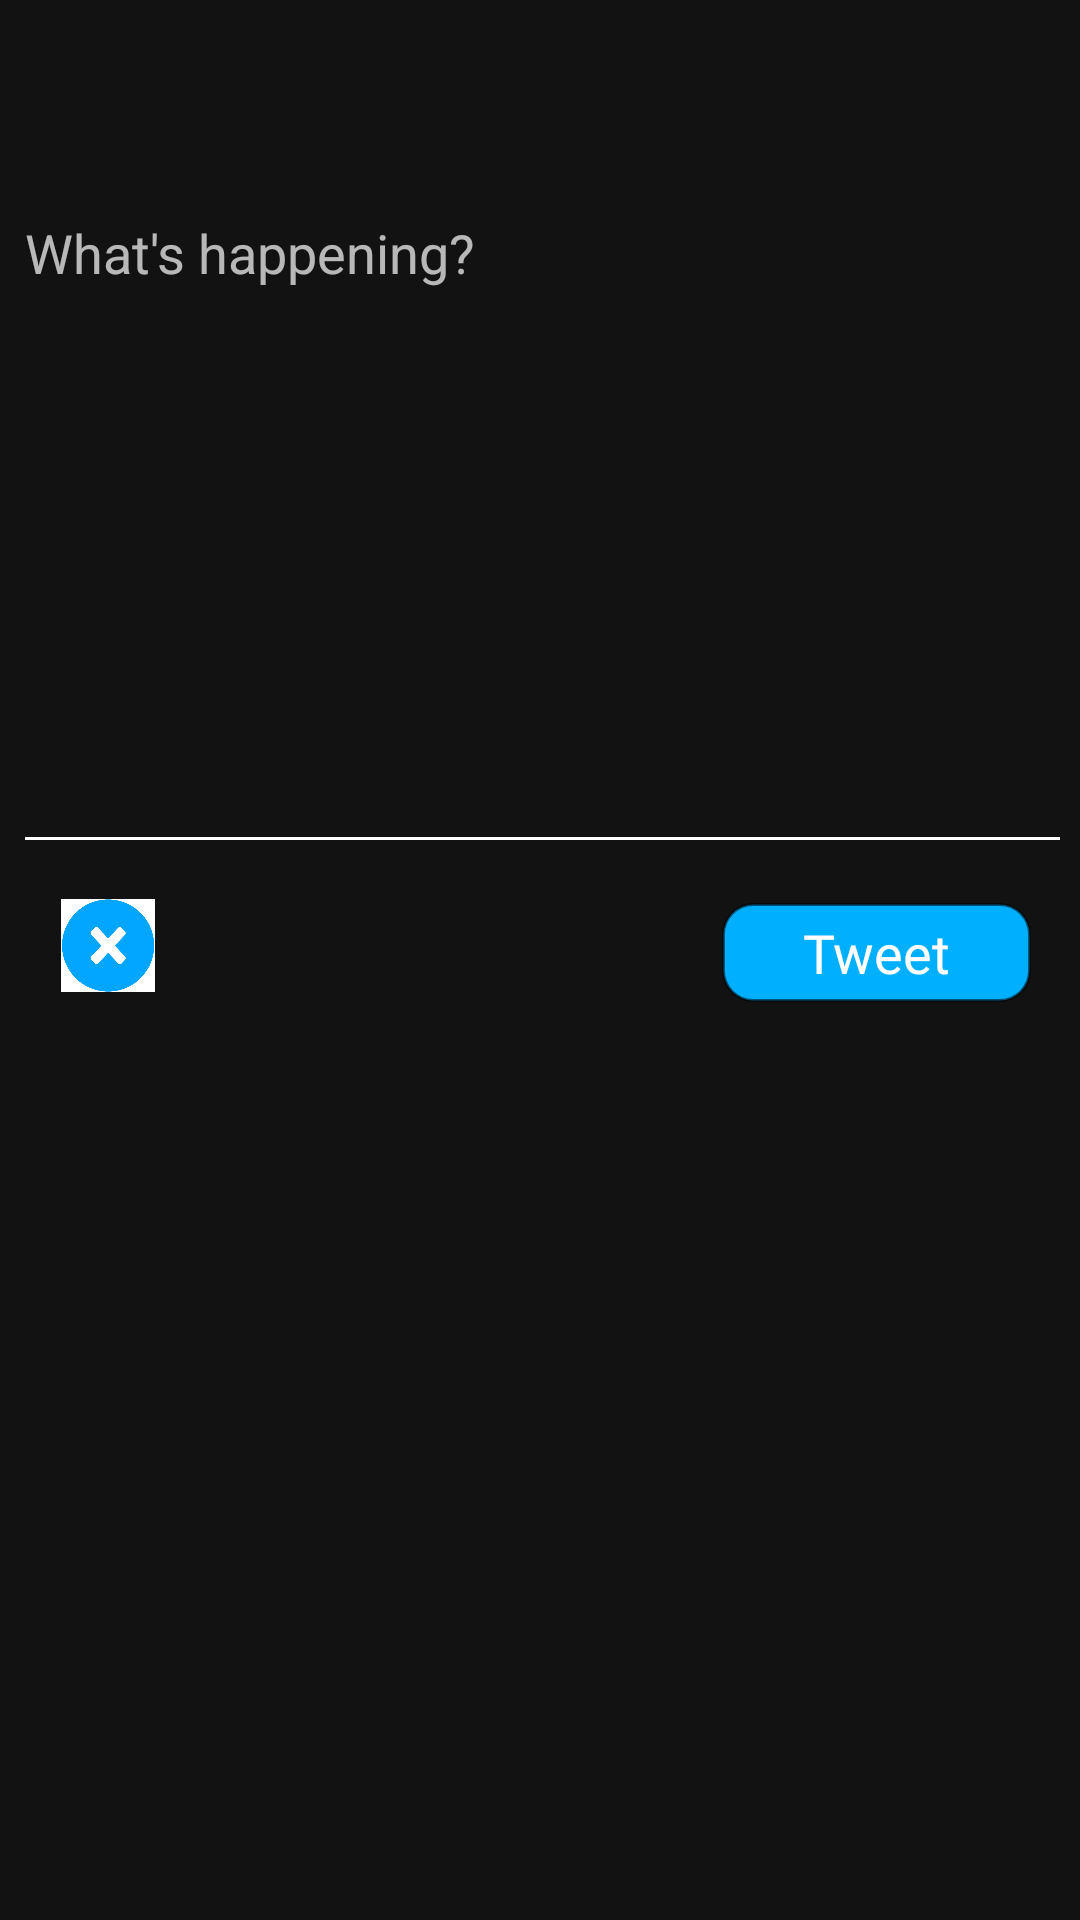

Icons on this 1080px×1920px Android screen, each with the point to tap as (x=x, y=y):
iconfinder close: (x=108, y=945)
